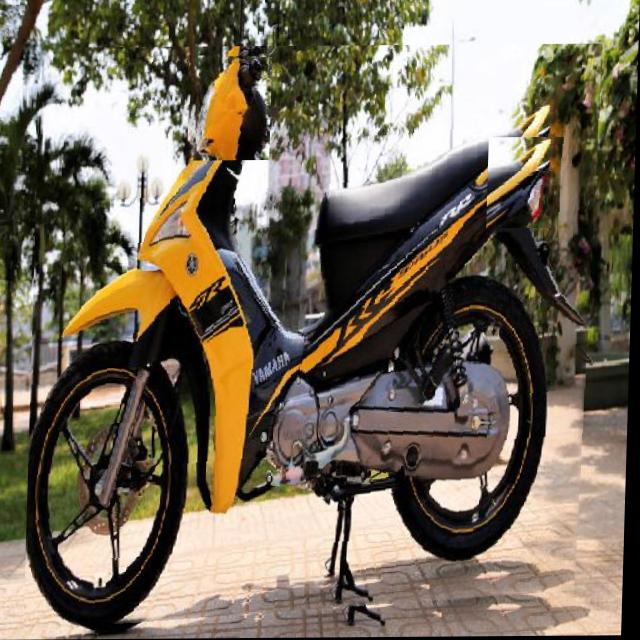All: (27, 44, 604, 632)
Head: (186, 55, 273, 161)
Tail: (488, 138, 565, 229)
